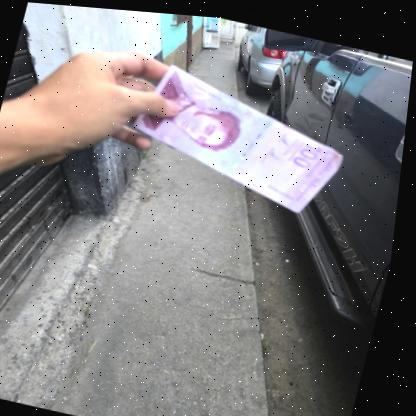one_hundred-front-vef: (120, 54, 361, 215)
